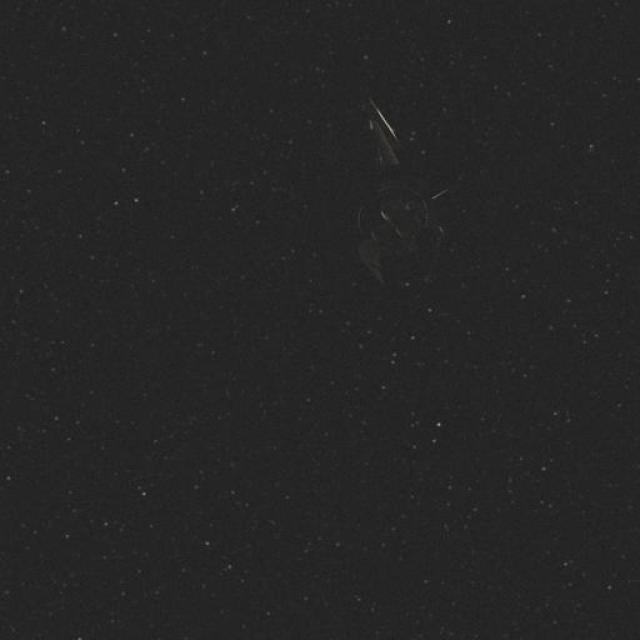xmm_newton: (328, 103, 516, 322)
